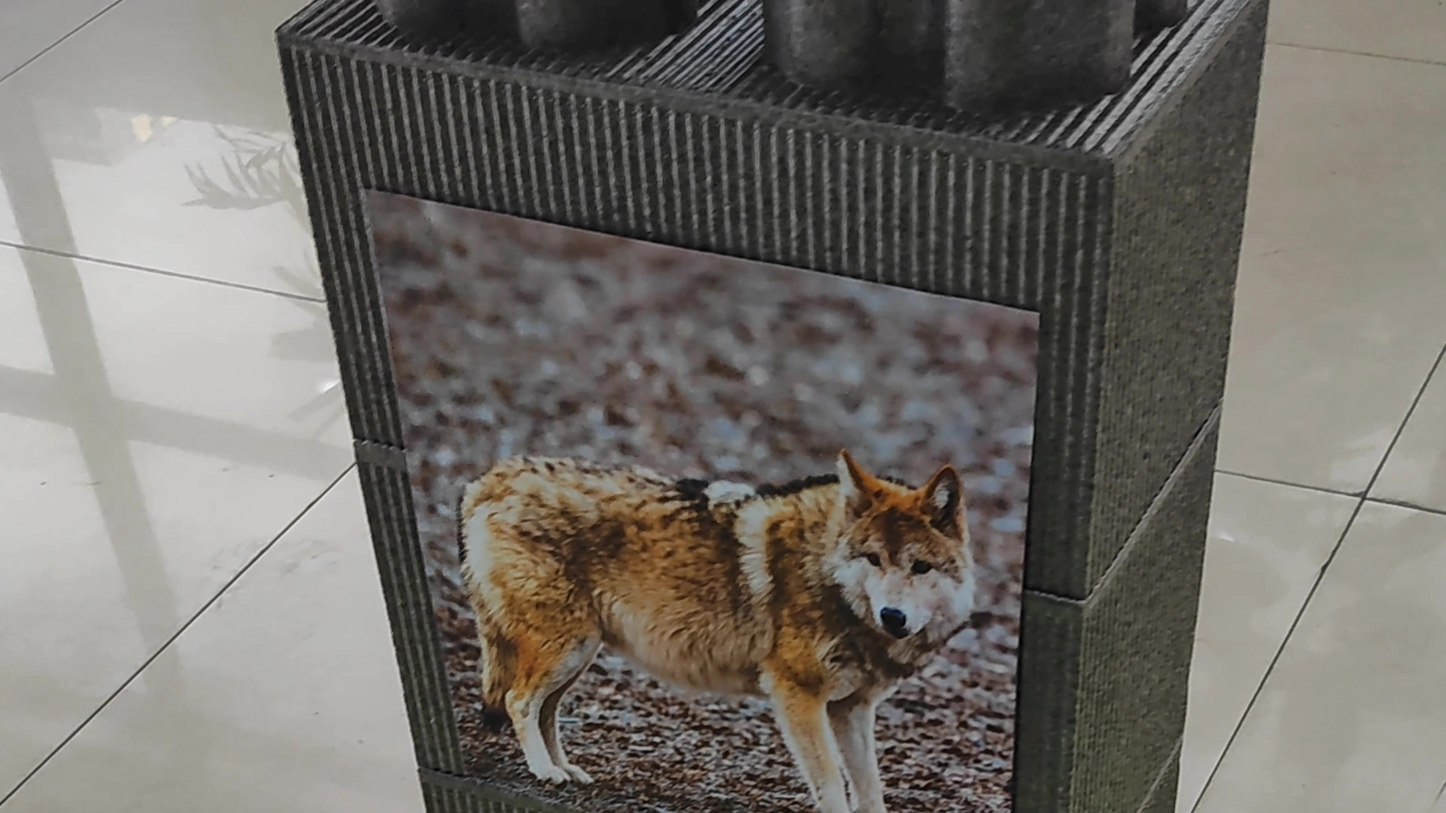wolf: (439, 373, 991, 788)
